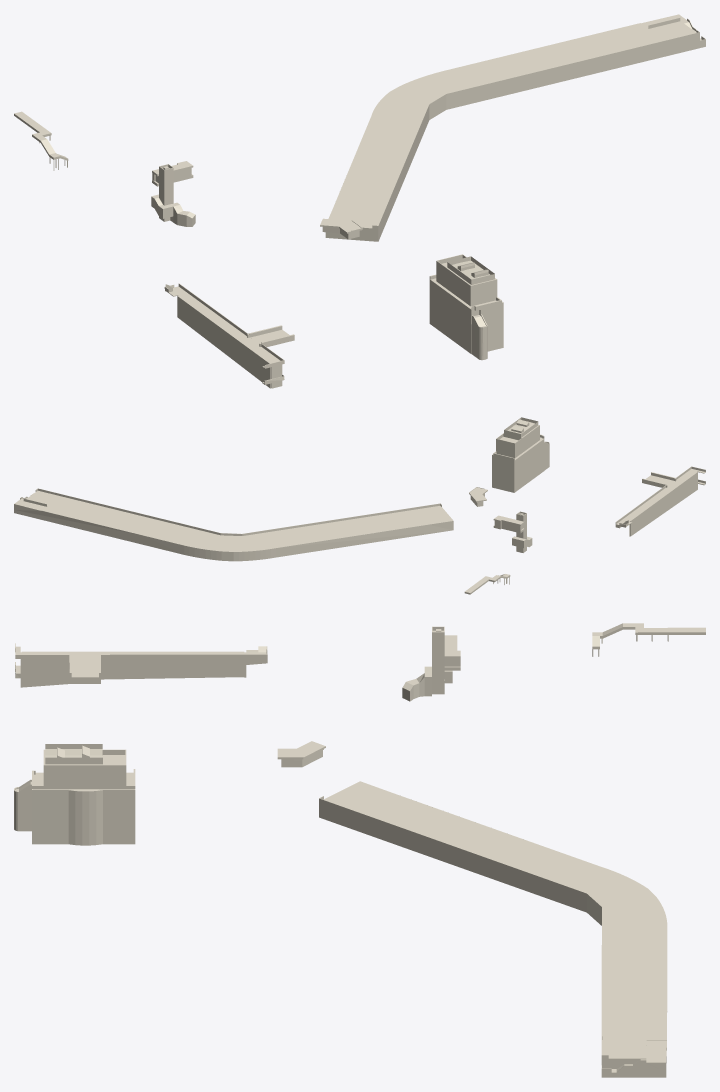
Rendered from seven-arrow-associated-source.glb.
3 renders of one model, top to bottom at view 1: azimuth 30°, elevation 25°; view 2: azimuth 150°, elevation 25°; view 3: azimuth 270°, elevation 25°, orthographic. The views are drawn at different scales.
Parts seen in each view (by area): view 1: B322681252502063C0_mesh, B322051237701063C0_mesh, B321191239302063C0_mesh, B321451247901063C0_mesh, I321251252202063C0_mesh, I321211237202063C0_mesh, B321911243901063C0_mesh; view 2: B322681252502063C0_mesh, B322051237701063C0_mesh, B321191239302063C0_mesh, B321451247901063C0_mesh, I321211237202063C0_mesh, I321251252202063C0_mesh; view 3: B322681252502063C0_mesh, B322051237701063C0_mesh, B321191239302063C0_mesh, B321451247901063C0_mesh, I321251252202063C0_mesh, B321911243901063C0_mesh, I321211237202063C0_mesh.
Part boxes in pixels (x1,y1,x2,y2): B322681252502063C0_mesh: [325, 14, 705, 241]; B322051237701063C0_mesh: [429, 254, 503, 360]; B321191239302063C0_mesh: [164, 283, 284, 388]; B321451247901063C0_mesh: [151, 161, 195, 226]; I321251252202063C0_mesh: [14, 111, 68, 170]; I321211237202063C0_mesh: [248, 325, 294, 346]; B321911243901063C0_mesh: [320, 218, 362, 239]; B322681252502063C0_mesh: [14, 488, 453, 561]; B322051237701063C0_mesh: [492, 417, 549, 492]; B321191239302063C0_mesh: [615, 466, 705, 536]; B321451247901063C0_mesh: [493, 511, 532, 552]; I321211237202063C0_mesh: [642, 472, 674, 487]; I321251252202063C0_mesh: [464, 574, 510, 594]; B322681252502063C0_mesh: [319, 781, 667, 1077]; B322051237701063C0_mesh: [14, 744, 135, 845]; B321191239302063C0_mesh: [15, 643, 267, 687]; B321451247901063C0_mesh: [402, 626, 460, 701]; I321251252202063C0_mesh: [592, 623, 705, 656]; B321911243901063C0_mesh: [277, 741, 325, 767]; I321211237202063C0_mesh: [69, 654, 100, 679].
Bounding box in the file's own units: 272 × 36.96 × 199.
